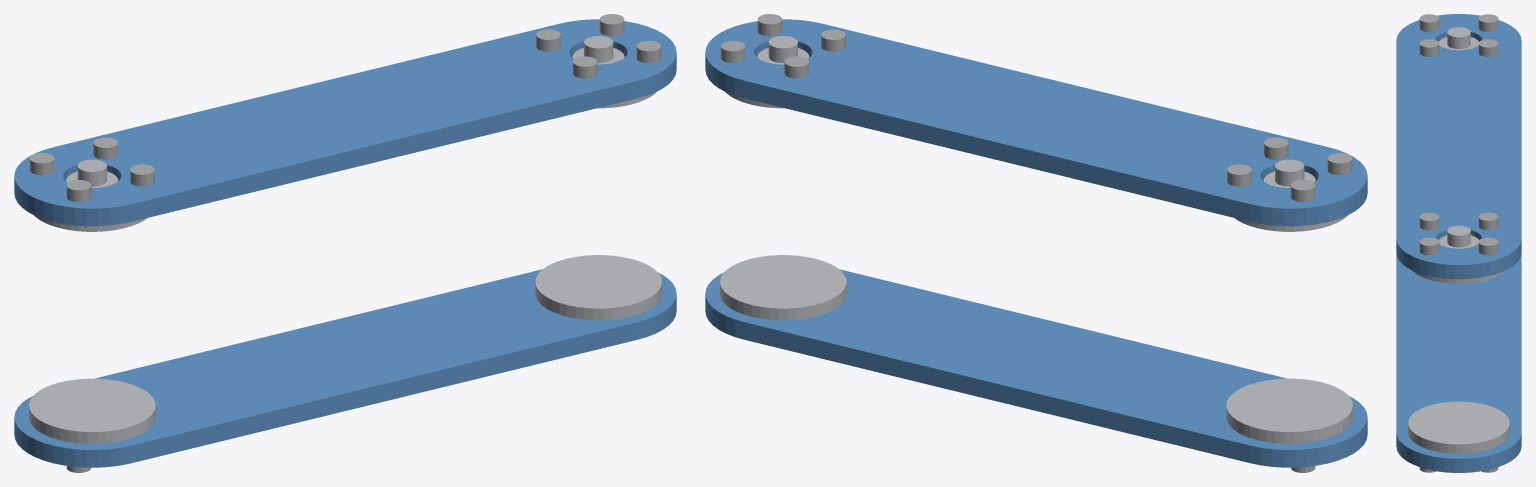
The model's file is femur.glb.
The picture shows the model from 3 angles, left to right: view 1: azimuth 30°, elevation 25°; view 2: azimuth 150°, elevation 25°; view 3: azimuth 270°, elevation 25°; orthographic projection. The views are drawn at different scales.
Parts seen in each view (by area): view 1: geometry_20, geometry_3, geometry_1, geometry_0, geometry_2; view 2: geometry_20, geometry_3, geometry_1, geometry_0, geometry_2; view 3: geometry_20, geometry_3, geometry_2, geometry_0, geometry_9, geometry_10, geometry_8, geometry_11, geometry_4, geometry_5, geometry_6, geometry_7.
Part boxes in pixels (x1,y1,x2,y2): geometry_20: (14, 19, 676, 467); geometry_3: (535, 255, 661, 320); geometry_1: (29, 378, 155, 443); geometry_0: (34, 159, 147, 231); geometry_2: (572, 36, 656, 108); geometry_20: (705, 19, 1367, 467); geometry_3: (720, 255, 846, 320); geometry_1: (1226, 378, 1352, 443); geometry_0: (1234, 159, 1347, 231); geometry_2: (725, 36, 809, 108); geometry_20: (1396, 14, 1521, 472); geometry_3: (1408, 401, 1509, 453); geometry_2: (1412, 225, 1505, 283); geometry_0: (1439, 27, 1478, 50); geometry_9: (1419, 212, 1439, 230); geometry_10: (1478, 212, 1498, 230); geometry_8: (1419, 237, 1439, 255); geometry_11: (1478, 237, 1498, 255); geometry_4: (1419, 39, 1439, 56); geometry_5: (1419, 14, 1439, 31); geometry_6: (1478, 14, 1498, 31); geometry_7: (1478, 39, 1498, 56).
Size of the model in its own units: 0.1139 by 0.048 by 0.024.
